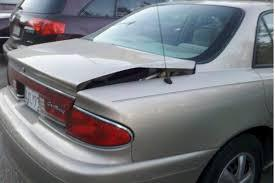boot-dent: (29, 42, 181, 89)
